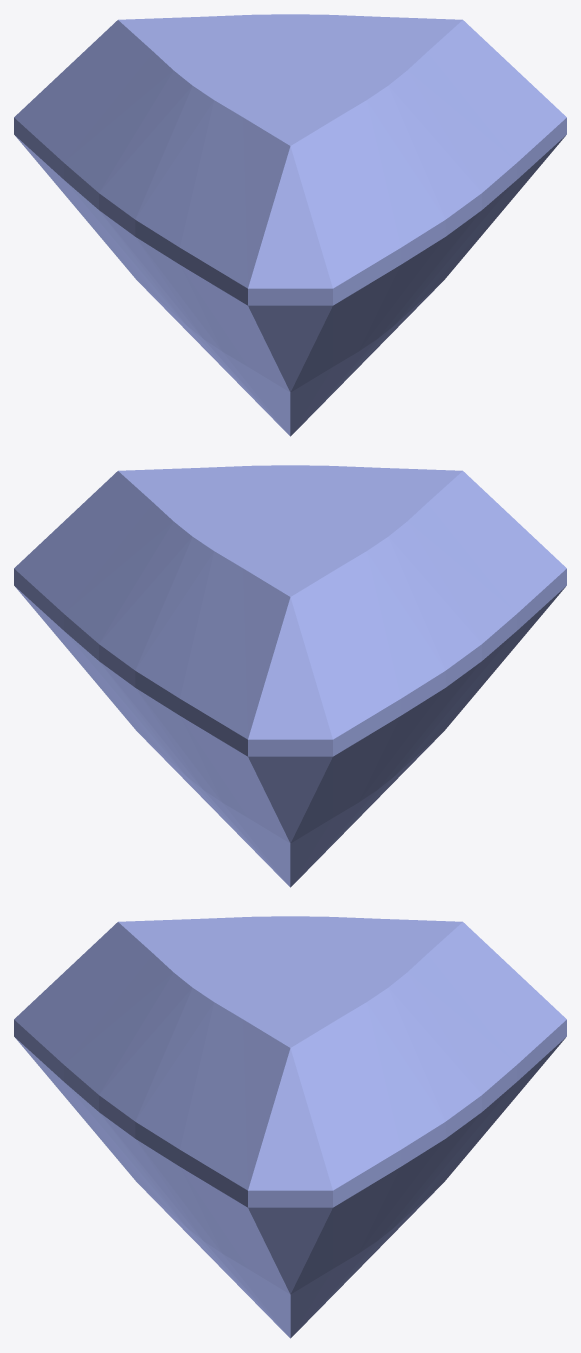
Rendered from benitoite.glb.
The picture shows the model from 3 angles, top to bottom: view 1: azimuth 30°, elevation 25°; view 2: azimuth 150°, elevation 25°; view 3: azimuth 270°, elevation 25°; orthographic projection.
Visible parts, largest first — view 1: benitoite; view 2: benitoite; view 3: benitoite.
Part boxes in pixels (x1,y1,x2,y2): benitoite: [14, 14, 566, 436]; benitoite: [14, 465, 566, 887]; benitoite: [14, 916, 566, 1338].
Size of the model in its own units: 0.2237 by 0.187 by 0.25.
